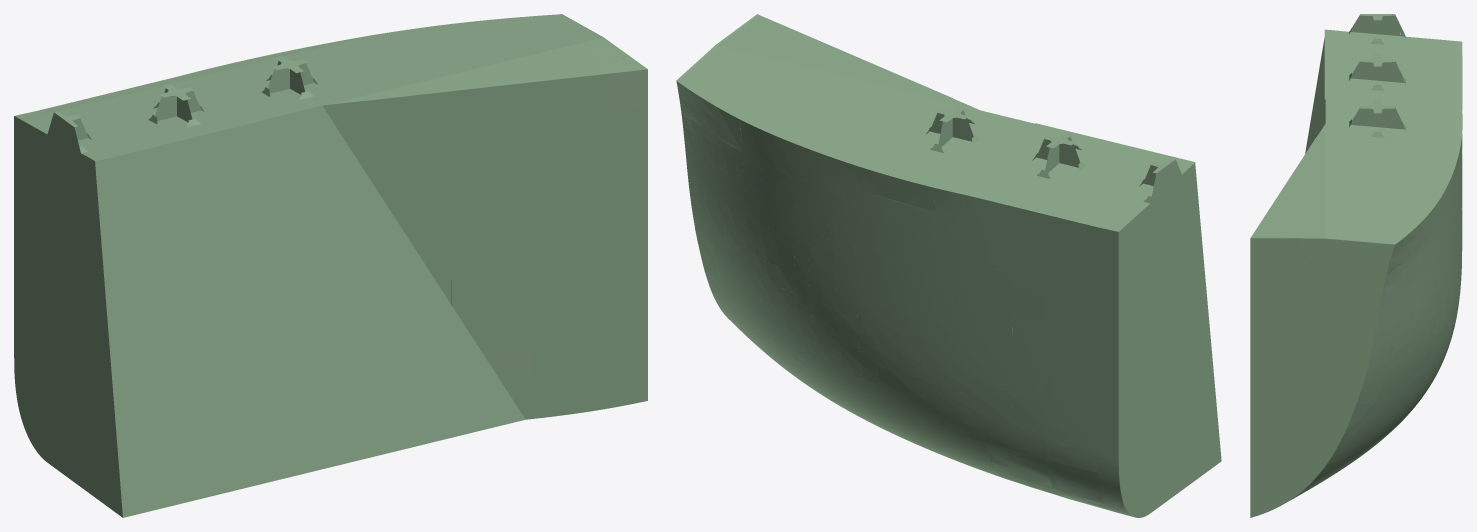
The model's file is NO_1_WING_CARGO_OIL_TK_PS.glb.
3 views of the same model, side by side, from view 1: azimuth 30°, elevation 25°; view 2: azimuth 150°, elevation 25°; view 3: azimuth 270°, elevation 25° (orthographic). The views are drawn at different scales.
Visible parts, largest first — view 1: PL_LBHDxNo1CenterTankP_008003-15_NVA32_1993, PL_LBHDxNo1CenterTankP_004003-15.5_NVA32_1993, PL_LBHDxNo1CenterTankP_046003-20.5_NVA32_1993, PL_LBHDxNo1CenterTankP_024002-17.5_NVA32_1993, PL_LBHDxNo1CenterTankP_027003-17_NVA32_1993, PL_LBHDxNo1CenterTankP_008005-15_NVA32_1993, PL_LBHDxNo1CenterTankP_021002-17.5_NVA32_1993, PL_LBHDxNo1CenterTankP_017005-17.5_NVA32_1993, PL_LBHDxNo1CenterTankP_022003-17.5_NVA32_1993, PL_LBHDxNo1CenterTankP_004005-15.5_NVA32_1993, PL_LBHDxNo1CenterTankP_046002-20.5_NVA32_1993, PL_LBHDxNo1CenterTankP_029001-17_NVA32_1993 (+124 smaller); view 2: PL_OuterShellxNo1SideTankP_005002-17_NVA32_1993, PL_OuterShellxNo1SideTankP_026003-17_NVA32_1993, PL_OuterShellxNo1SideTankP_005003-17_NVA32_1993, PL_OuterShellxNo1SideTankP_011002-17_NVA32_1993, PL_OuterShellxNo1SideTankP_025004-17_NVA32_1993, PL_OuterShellxNo1SideTankP_038002-18.5_NVA32_1993, PL_SideTransBHDxBHD90P_017001-19.5_NVA32_1993, PL_OuterShellxNo1SideTankP_014001-17_NVA32_1993, PL_SideTransBHDxBHD90P_018001-18.5_NVA32_1993, PL_SideTransBHDxBHD90P_001001-19.5_NVA32_1993, PL_OuterShellxNo1SideTankP_023008-17_NVA32_1993, PL_OuterShellxNo1SideTankP_024001-17_NVA32_1993 (+108 smaller); view 3: PL_SideTransBHDxBHD99P_008001-16_NVA_1993, PL_SideTransBHDxBHD99P_005001-13_NVA_1993, PL_SideTransBHDxBHD99P_002001-13_NVA_1993, PL_SideTransBHDxBHD99P_006003-14.5_NVA_1993, PL_SideTransBHDxBHD99P_007001-17.5_NVA_1993, PL_SideTransBHDxBHD99P_014001-22_NVA_1993, PL_SideTransBHDxBHD99P_001001-13_NVA_1993, PL_SideTransBHDxBHD99P_011001-18.5_NVA_1993, PL_SideTransBHDxBHD99P_009003-17.5_NVA_1993, PL_SideTransBHDxBHD99P_004001-14.5_NVA_1993, PL_SideTransBHDxBHD99P_015001-21_NVA_1993, PL_SideTransBHDxBHD99P_003003-13_NVA_1993 (+98 smaller).
Part boxes in pixels (<box>): PL_LBHDxNo1CenterTankP_008003-15_NVA32_1993: <box>468,206,544,255</box>; PL_LBHDxNo1CenterTankP_004003-15.5_NVA32_1993: <box>468,81,544,128</box>; PL_LBHDxNo1CenterTankP_046003-20.5_NVA32_1993: <box>198,438,266,498</box>; PL_LBHDxNo1CenterTankP_024002-17.5_NVA32_1993: <box>195,395,262,453</box>; PL_LBHDxNo1CenterTankP_027003-17_NVA32_1993: <box>544,368,610,417</box>; PL_LBHDxNo1CenterTankP_008005-15_NVA32_1993: <box>544,198,610,246</box>; PL_LBHDxNo1CenterTankP_021002-17.5_NVA32_1993: <box>184,259,248,317</box>; PL_LBHDxNo1CenterTankP_017005-17.5_NVA32_1993: <box>544,328,610,375</box>; PL_LBHDxNo1CenterTankP_022003-17.5_NVA32_1993: <box>191,347,258,402</box>; PL_LBHDxNo1CenterTankP_004005-15.5_NVA32_1993: <box>544,73,610,119</box>; PL_LBHDxNo1CenterTankP_046002-20.5_NVA32_1993: <box>142,454,201,512</box>; PL_LBHDxNo1CenterTankP_029001-17_NVA32_1993: <box>489,289,544,341</box>; PL_OuterShellxNo1SideTankP_005002-17_NVA32_1993: <box>983,304,1043,359</box>; PL_OuterShellxNo1SideTankP_026003-17_NVA32_1993: <box>983,385,1044,432</box>; PL_OuterShellxNo1SideTankP_005003-17_NVA32_1993: <box>935,292,983,344</box>; PL_OuterShellxNo1SideTankP_011002-17_NVA32_1993: <box>875,323,923,379</box>; PL_OuterShellxNo1SideTankP_025004-17_NVA32_1993: <box>983,353,1043,399</box>; PL_OuterShellxNo1SideTankP_038002-18.5_NVA32_1993: <box>1050,320,1096,372</box>; PL_SideTransBHDxBHD90P_017001-19.5_NVA32_1993: <box>1121,455,1170,517</box>; PL_OuterShellxNo1SideTankP_014001-17_NVA32_1993: <box>874,266,922,316</box>; PL_SideTransBHDxBHD90P_018001-18.5_NVA32_1993: <box>1118,421,1170,490</box>; PL_SideTransBHDxBHD90P_001001-19.5_NVA32_1993: <box>1177,423,1221,493</box>; PL_OuterShellxNo1SideTankP_023008-17_NVA32_1993: <box>873,205,935,249</box>; PL_OuterShellxNo1SideTankP_024001-17_NVA32_1993: <box>745,216,794,274</box>; PL_SideTransBHDxBHD99P_008001-16_NVA_1993: <box>1250,350,1311,379</box>; PL_SideTransBHDxBHD99P_005001-13_NVA_1993: <box>1250,294,1311,322</box>; PL_SideTransBHDxBHD99P_002001-13_NVA_1993: <box>1250,238,1311,265</box>; PL_SideTransBHDxBHD99P_006003-14.5_NVA_1993: <box>1250,324,1311,350</box>; PL_SideTransBHDxBHD99P_007001-17.5_NVA_1993: <box>1332,350,1371,388</box>; PL_SideTransBHDxBHD99P_014001-22_NVA_1993: <box>1274,465,1325,508</box>; PL_SideTransBHDxBHD99P_001001-13_NVA_1993: <box>1352,241,1394,275</box>; PL_SideTransBHDxBHD99P_011001-18.5_NVA_1993: <box>1250,408,1293,436</box>; PL_SideTransBHDxBHD99P_009003-17.5_NVA_1993: <box>1250,388,1311,407</box>; PL_SideTransBHDxBHD99P_004001-14.5_NVA_1993: <box>1340,294,1381,324</box>; PL_SideTransBHDxBHD99P_015001-21_NVA_1993: <box>1250,465,1273,517</box>; PL_SideTransBHDxBHD99P_003003-13_NVA_1993: <box>1250,276,1311,294</box>.
Size of the model in its own units: 47.17 by 31.51 by 20.25.
